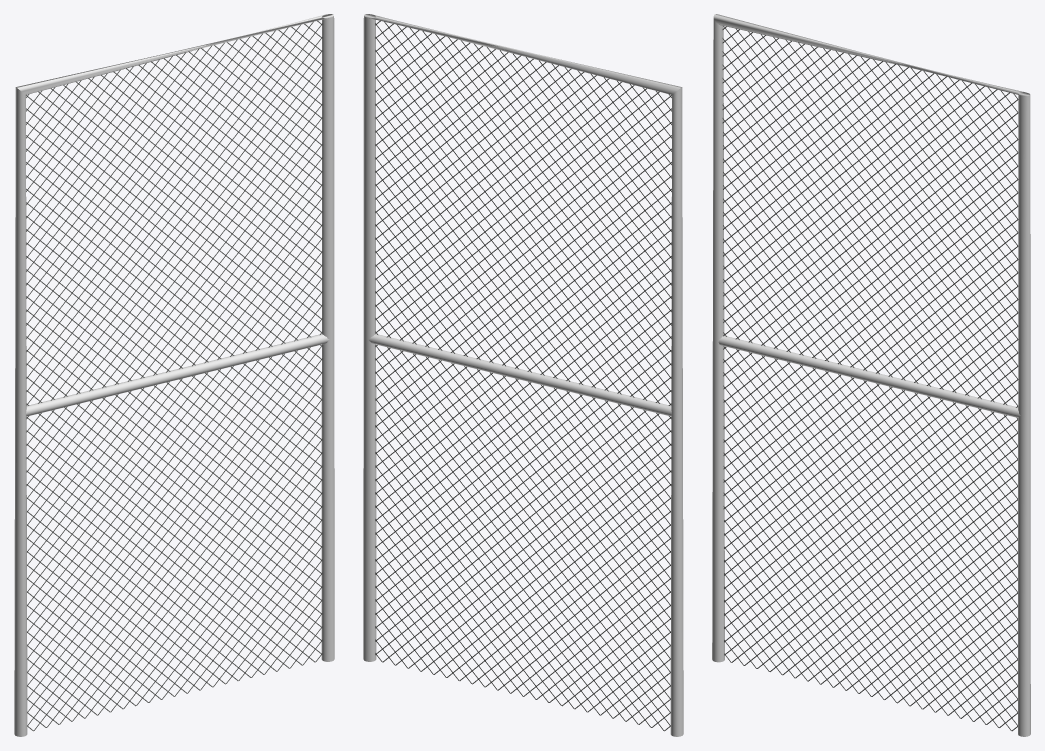
Rendered from SM_Cage_Panel.fbx.
3 renders of one model, left to right at view 1: azimuth 30°, elevation 25°; view 2: azimuth 150°, elevation 25°; view 3: azimuth 330°, elevation 25°, orthographic.
Visible parts, largest first — view 1: SM_Cage_Panel_1; view 2: SM_Cage_Panel_1; view 3: SM_Cage_Panel_1.
Part boxes in pixels (box(x1,y1,x2,y2)): SM_Cage_Panel_1: box(14, 14, 334, 736); SM_Cage_Panel_1: box(363, 14, 683, 736); SM_Cage_Panel_1: box(712, 14, 1030, 736).
Bounding box in the file's own units: 124 × 242 × 4.4.
